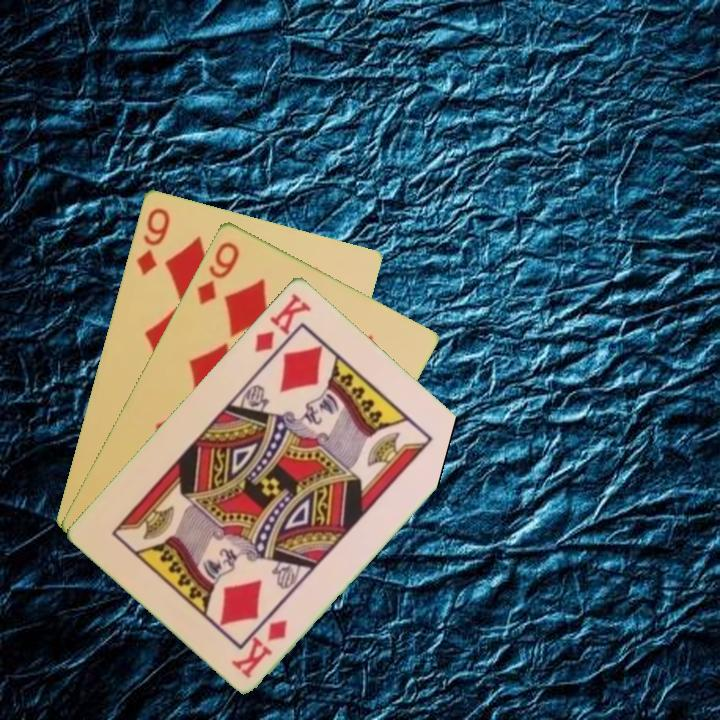9d: (193, 237, 243, 307), (132, 204, 173, 277)
Kd: (251, 289, 315, 355), (228, 615, 291, 681)
